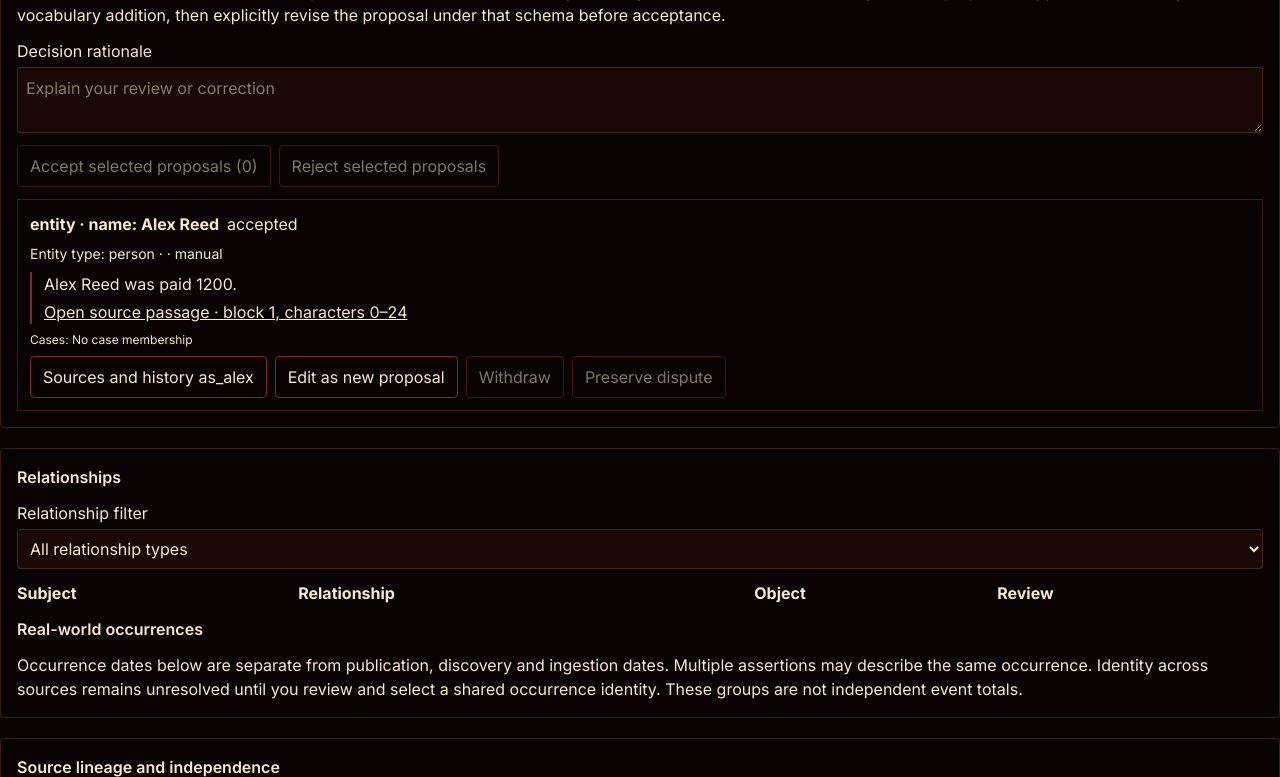
Test case: source grounded review controls › offers same-name candidates for explicit repair without silently changing the binding
(page scrolled)
Click the button "Sources and history as_alex". click: [148, 377]
box: [30,356,267,398]
(page scrolled)
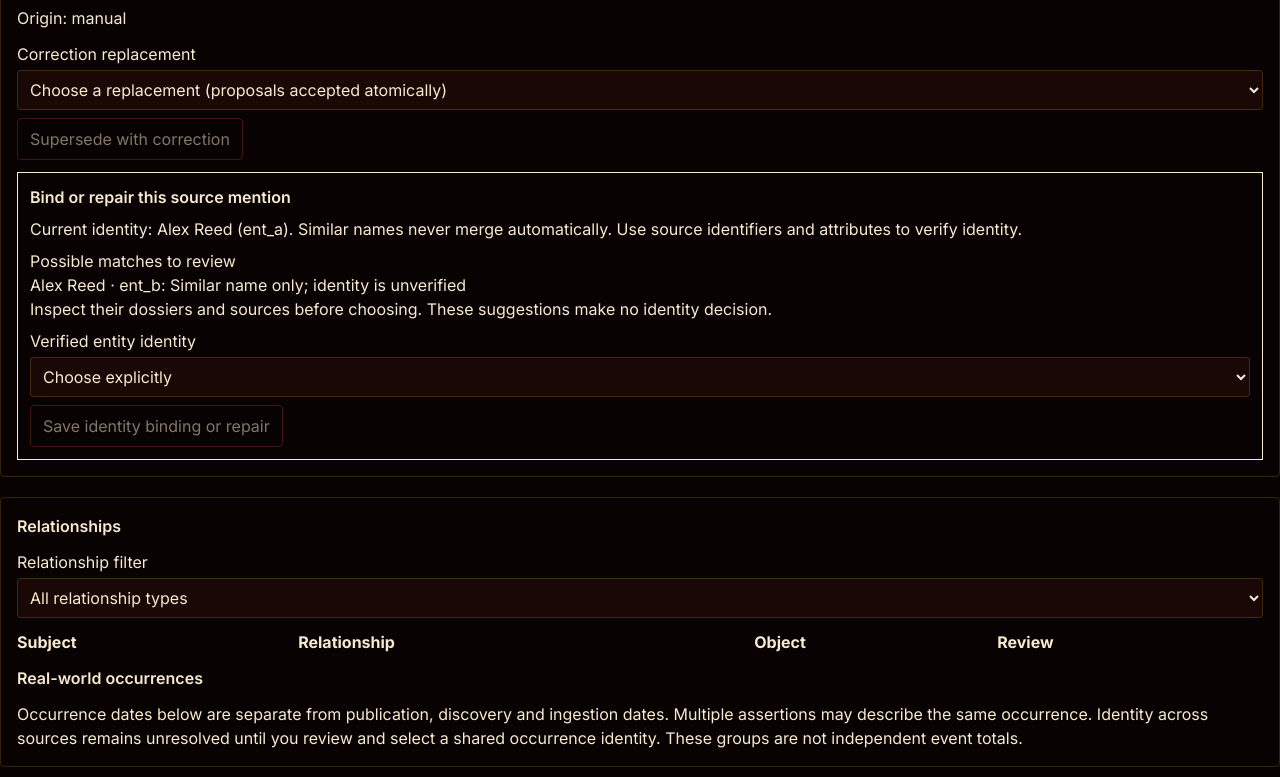
Expected: the element named "Possible identity matches" shows "Similar name only; identity is unverified", [170,275,466,295]
Expected: the dropdown labelled "Verified entity identity" shows "Choose explicitly", [30,357,1250,397]
